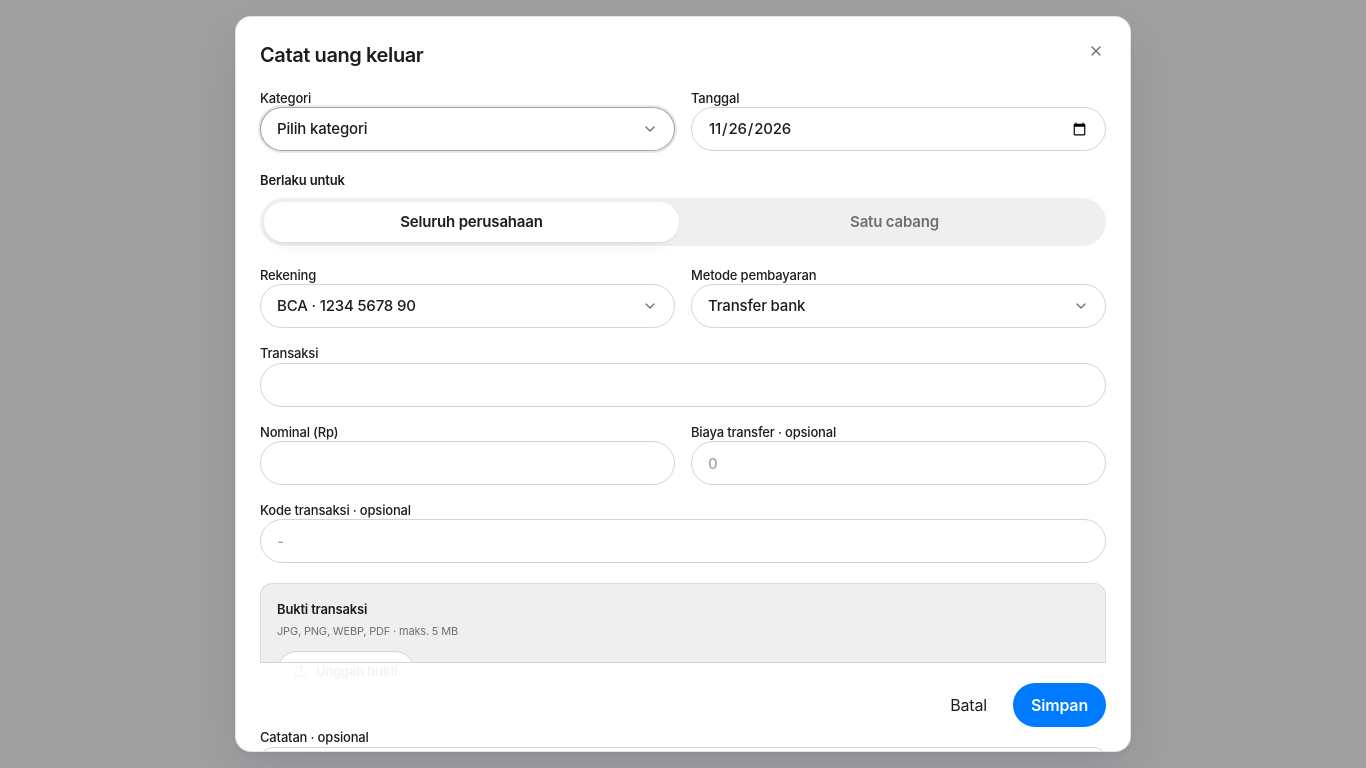
ManualTransactionDialog › asks for every missing field, including a branch for branch entries
Select "Supplies" in the dropdown named "Transaction category": point(468, 129) [260,107,675,151]
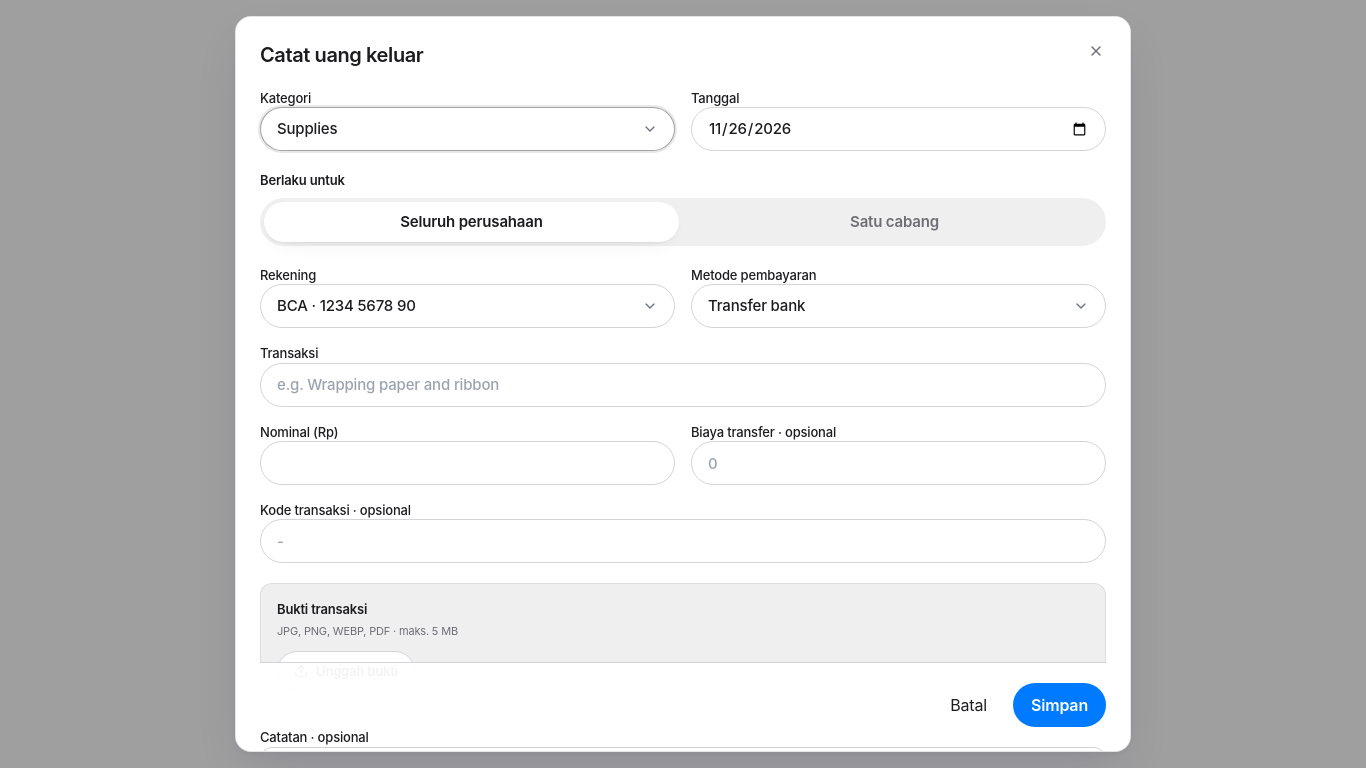
Click the button "Satu cabang": point(894, 222) [687,202,1102,242]
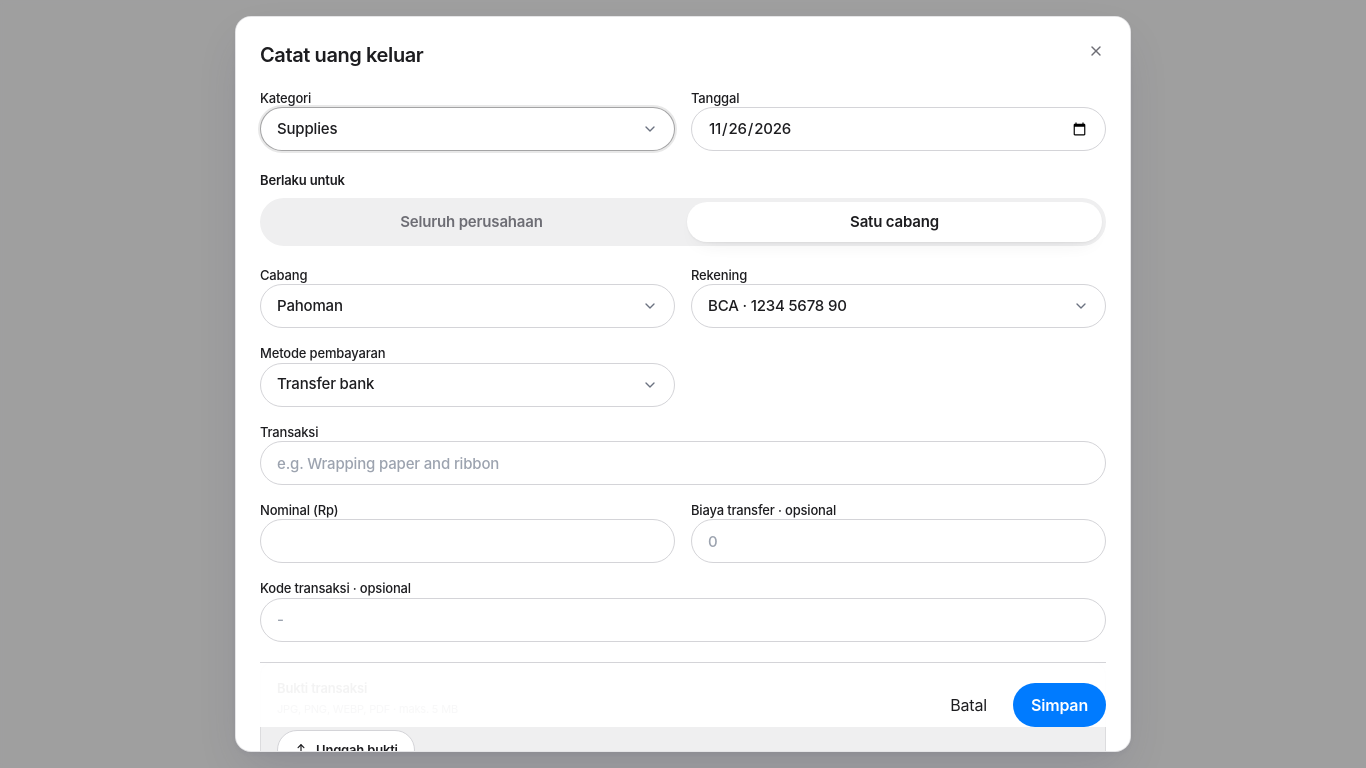
Select "Pilih cabang" in the dropdown named "Transaction branch": point(468, 306) [260,284,675,328]
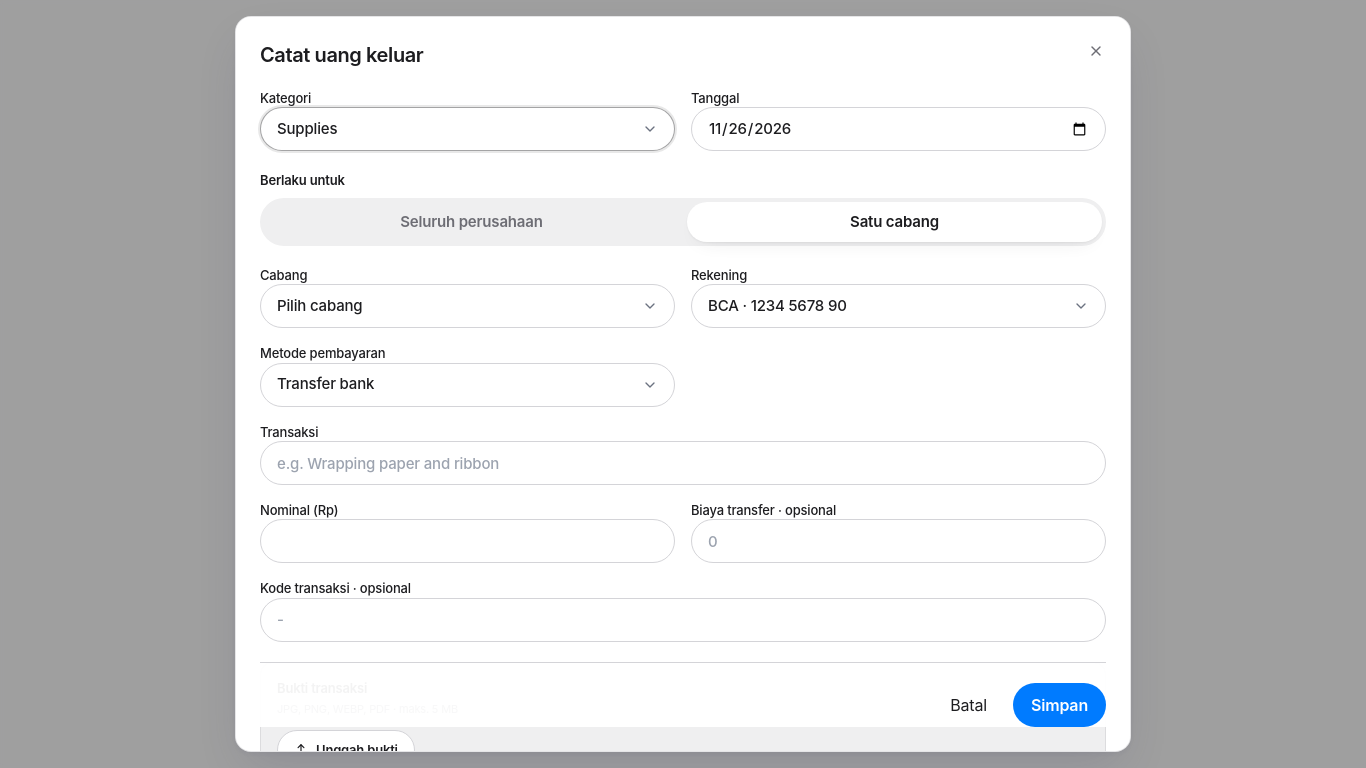
Click the button "Simpan": point(1059, 705) [1013,683,1106,727]
(page scrolled)
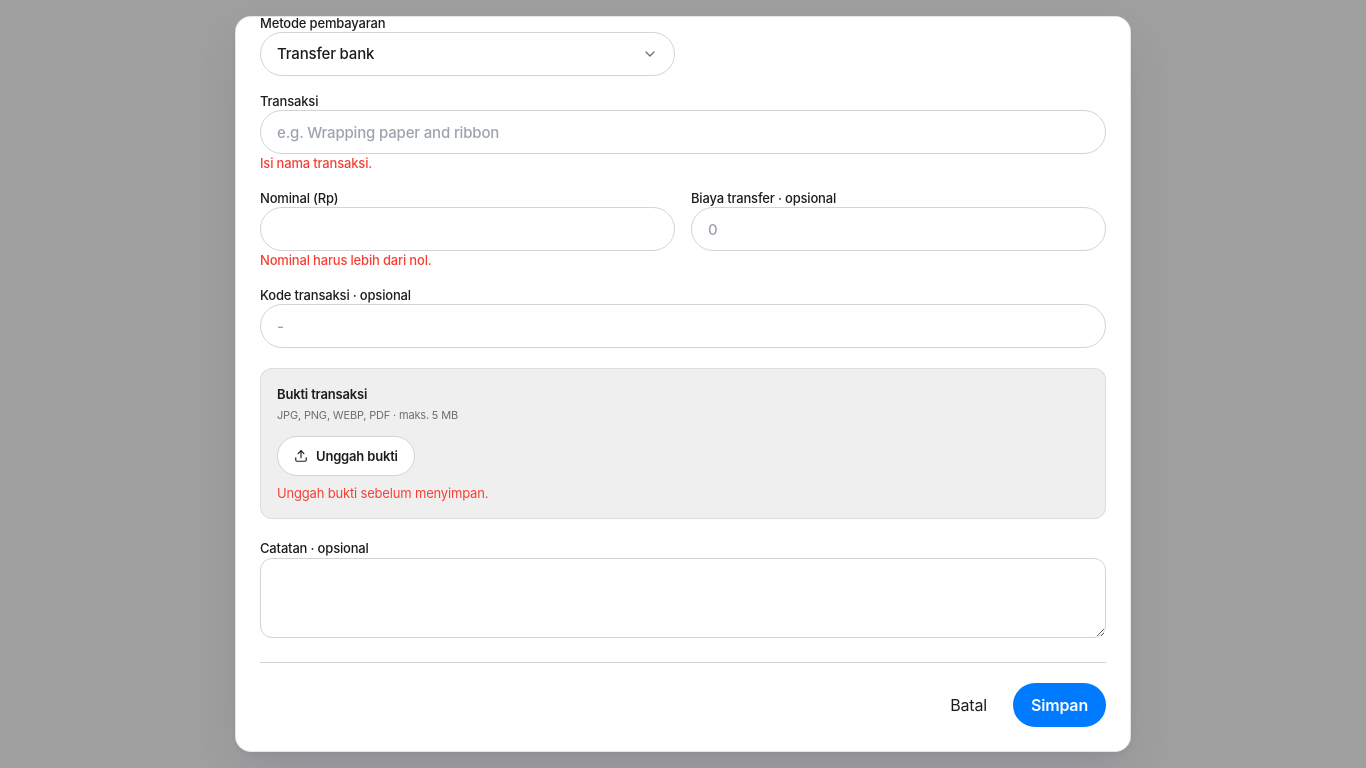
Check: the text "Isi nama transaksi." is shown, box [260,155,372,171]
Check: the text "Nominal harus lebih dari nol." is shown, box [260,252,432,268]
Check: the text "Unggah bukti sebelum menyimpan." is shown, box [277,485,488,501]
